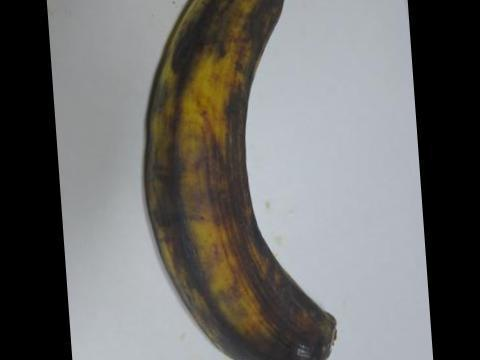overripe: (127, 0, 352, 359)
rotten: (245, 279, 360, 359)
